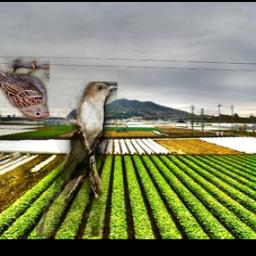Cuckoo: (36, 83, 117, 237)
Sparrow: (0, 58, 50, 121)
